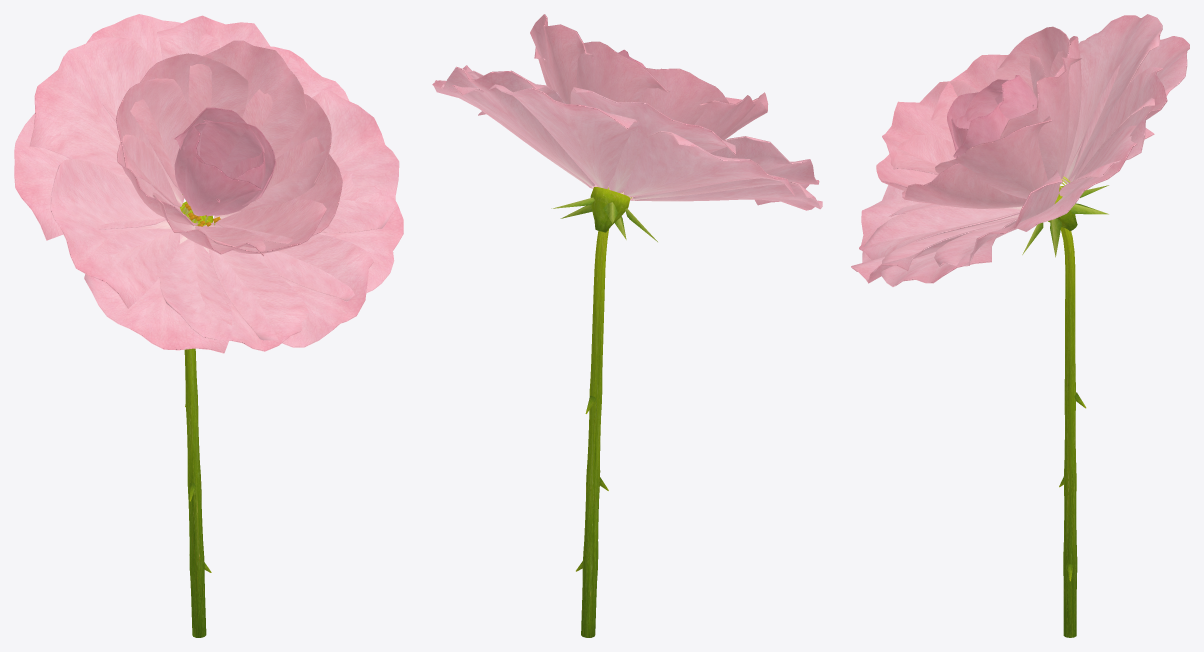
File: color_2.glb
3 views of the same model, side by side, from view 1: azimuth 30°, elevation 25°; view 2: azimuth 150°, elevation 25°; view 3: azimuth 270°, elevation 25° (orthographic).
Parts seen in each view (by area): view 1: Petal_1_outer_03, Petal_3_outer_04, Petal_5_outer_04, Petal_6_outer_02, Petal_4_outer_01, Petal_8_outer_02, Petal_15_middle_03, Petal_7_outer_03, Petal_17_middle_01, Petal_16_middle_04, Stem_Skinned, Petal_14_middle_04 (+13 smaller); view 2: Petal_0_outer_01, Stem_Skinned, Petal_2_outer_01, Petal_10_outer_02, Petal_1_outer_03, Petal_16_middle_04, Petal_3_outer_04, Petal_17_middle_01, Petal_15_middle_03, Petal_4_outer_01, Hypanthium_and_five_sepals, Petal_18_middle_02 (+2 smaller); view 3: Petal_1_outer_03, Stem_Skinned, Petal_14_middle_04, Petal_6_outer_02, Petal_10_outer_02, Petal_15_middle_03, Petal_11_middle_03, Petal_13_middle_02, Petal_7_outer_03, Petal_0_outer_01, Petal_8_outer_02, Petal_5_outer_04 (+10 smaller).
Part boxes in pixels (bbox=[...]): Petal_1_outer_03: bbox=[29, 37, 154, 186]; Petal_3_outer_04: bbox=[50, 159, 179, 308]; Petal_5_outer_04: bbox=[159, 239, 309, 351]; Petal_6_outer_02: bbox=[209, 234, 373, 347]; Petal_4_outer_01: bbox=[84, 228, 232, 353]; Petal_8_outer_02: bbox=[312, 90, 399, 233]; Petal_15_middle_03: bbox=[188, 40, 306, 155]; Petal_7_outer_03: bbox=[246, 172, 403, 301]; Petal_17_middle_01: bbox=[115, 78, 188, 206]; Petal_16_middle_04: bbox=[130, 53, 248, 191]; Stem_Skinned: bbox=[184, 212, 211, 637]; Petal_14_middle_04: bbox=[237, 89, 331, 211]; Petal_0_outer_01: bbox=[489, 84, 638, 188]; Stem_Skinned: bbox=[576, 229, 608, 637]; Petal_2_outer_01: bbox=[624, 130, 794, 197]; Petal_10_outer_02: bbox=[441, 66, 594, 186]; Petal_1_outer_03: bbox=[570, 87, 735, 193]; Petal_16_middle_04: bbox=[576, 41, 669, 102]; Petal_3_outer_04: bbox=[633, 136, 819, 200]; Petal_17_middle_01: bbox=[638, 67, 728, 124]; Petal_15_middle_03: bbox=[530, 14, 593, 104]; Petal_4_outer_01: bbox=[632, 182, 822, 210]; Hypanthium_and_five_sepals: bbox=[551, 187, 657, 241]; Petal_18_middle_02: bbox=[694, 95, 755, 138]; Petal_1_outer_03: bbox=[1063, 14, 1162, 182]; Stem_Skinned: bbox=[1059, 227, 1086, 637]; Petal_14_middle_04: bbox=[935, 116, 1051, 198]; Petal_6_outer_02: bbox=[851, 206, 1020, 283]; Petal_10_outer_02: bbox=[1059, 66, 1167, 196]; Petal_15_middle_03: bbox=[1000, 57, 1081, 184]; Petal_11_middle_03: bbox=[882, 80, 978, 174]; Petal_13_middle_02: bbox=[902, 163, 1026, 208]; Petal_7_outer_03: bbox=[881, 217, 1018, 286]; Petal_0_outer_01: bbox=[1070, 36, 1189, 181]; Petal_8_outer_02: bbox=[934, 170, 1062, 266]; Petal_5_outer_04: bbox=[859, 185, 1021, 260].
Size of the model in its own units: 0.1988 by 0.3289 by 0.1713.
7 materials, 7 textured.
